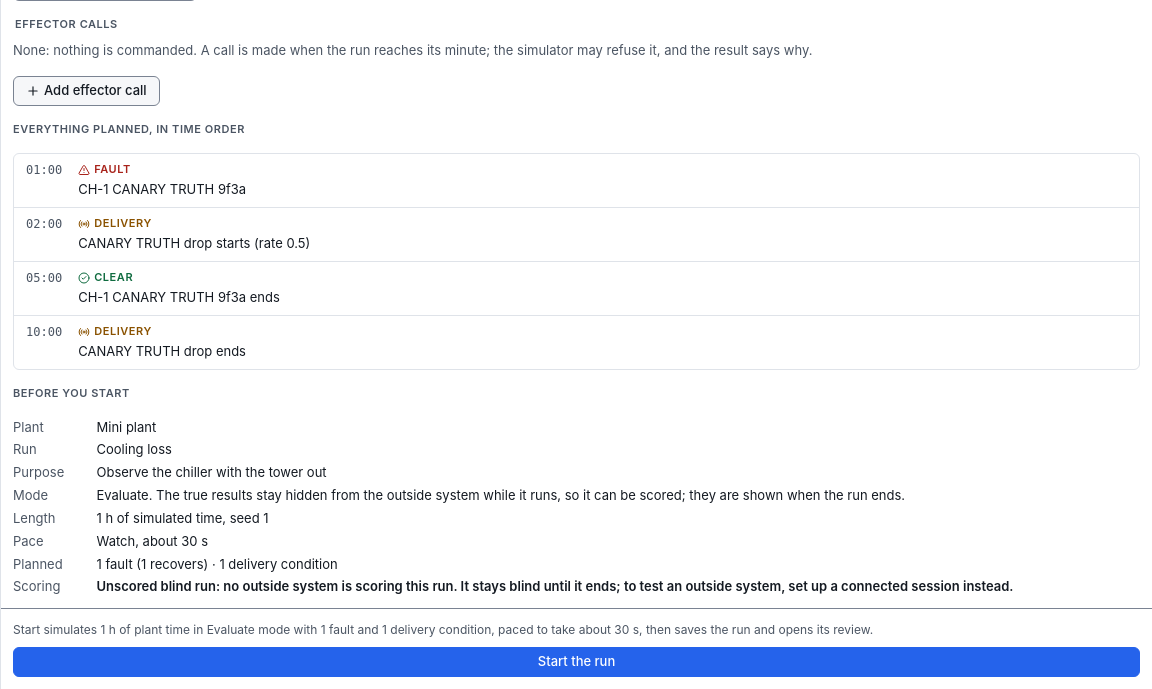
Test: the plan of an evaluation › shows the name and purpose but no fault or delivery condition once it is running
(page scrolled)
Click the button "Start the run": (576, 662) [13,647,1140,677]
(page scrolled)
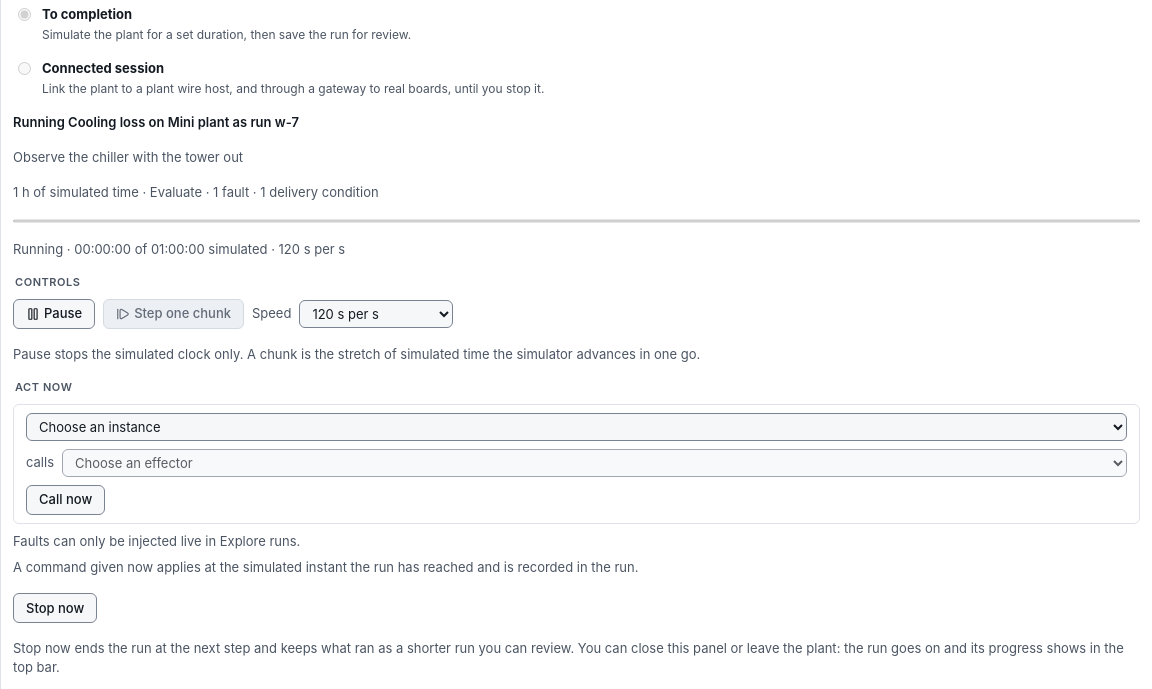
Expected: the text "Observe the chiller with the tower out" is shown, [13,149,243,165]
Now the text "Running Cooling loss on Mini plant as run w-7" is shown, box [13,114,299,130]
Now the heading "Before you start" is gone
